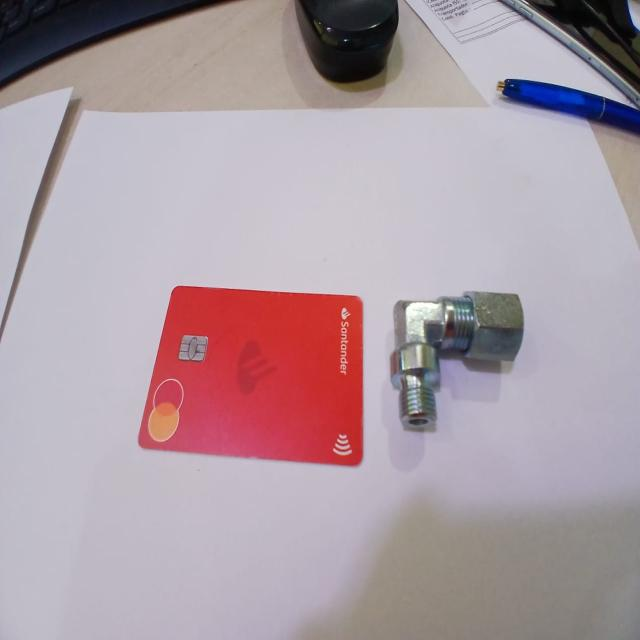cartao: (138, 286, 363, 466)
rosca_externa: (390, 290, 524, 430)
